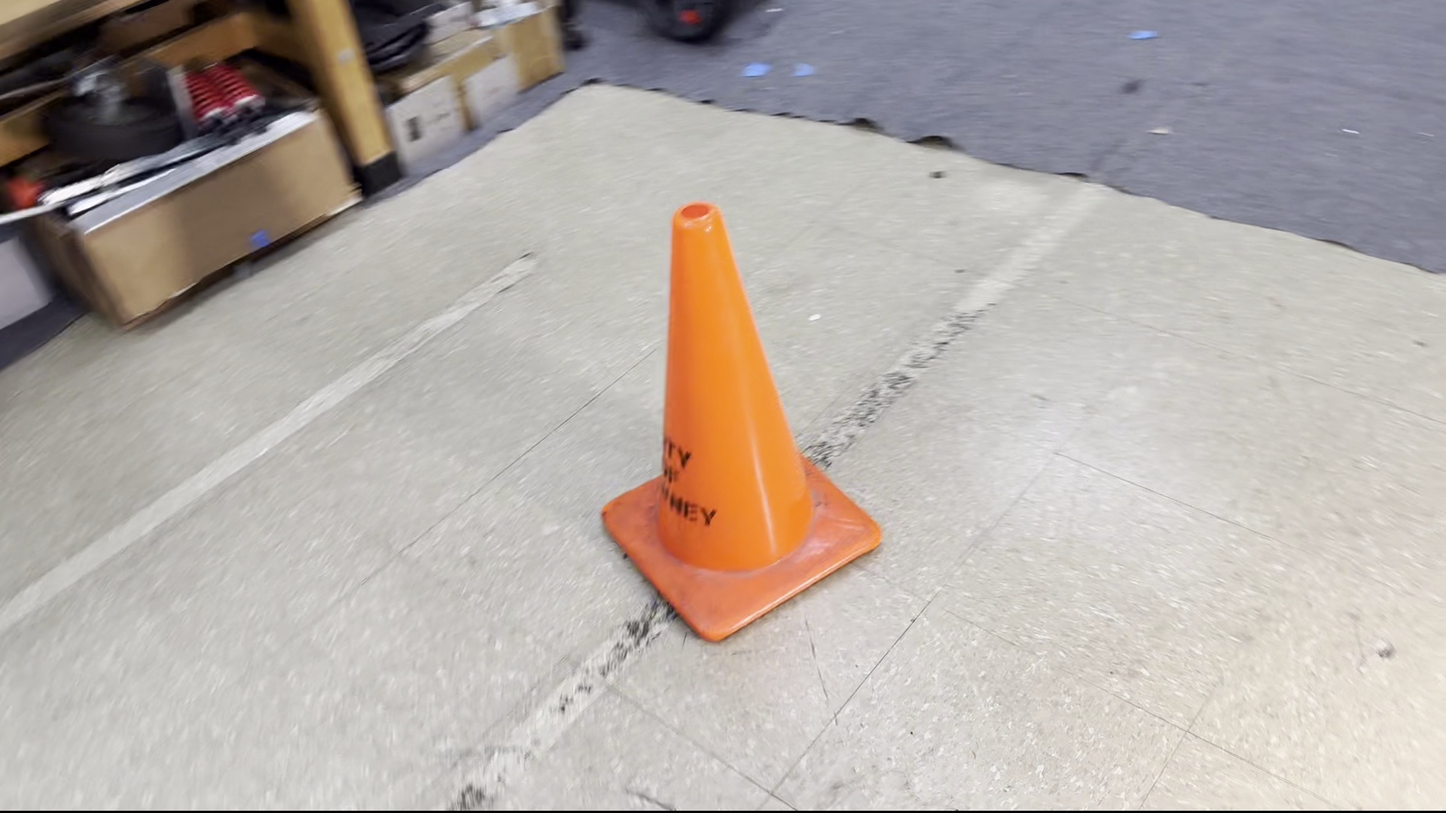traffic_cone: (600, 201, 883, 643)
